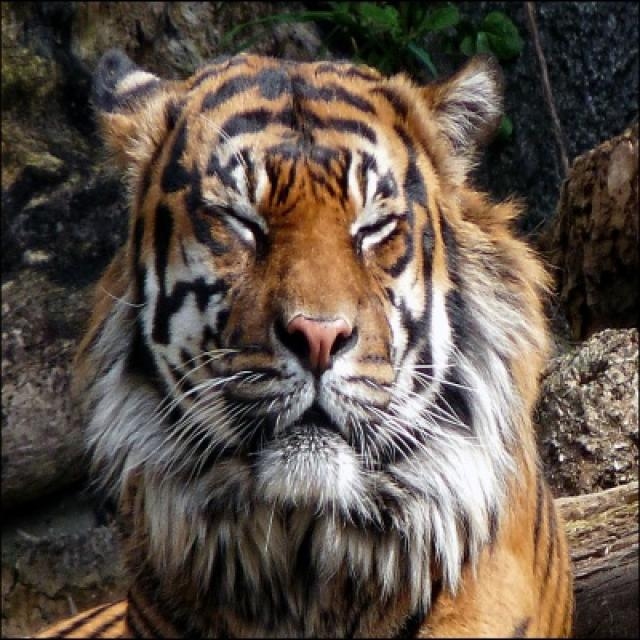Tiger: (75, 50, 568, 635)
